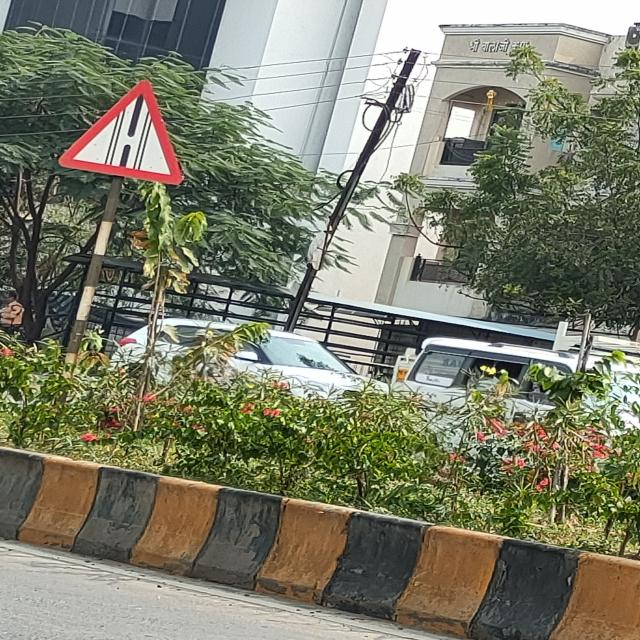GAP_IN_MEDIAN: (56, 77, 182, 192)
